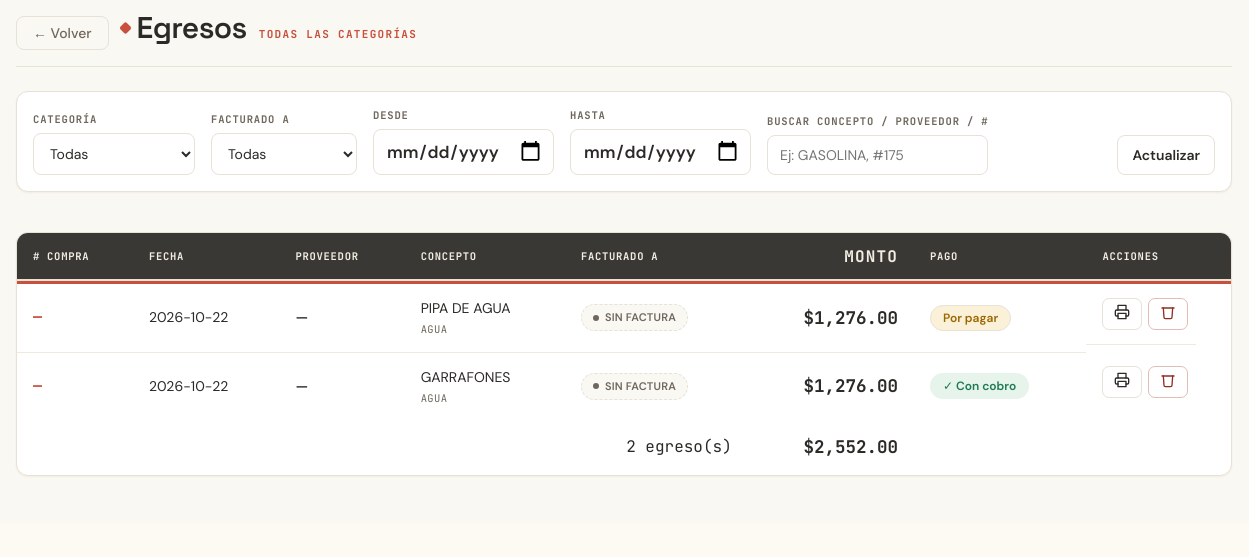
Test: Egresos: ¿con qué se pagó? › 🔴 pagado con cobro: dice «Con cobro» y si el servidor no deja quitarlo, el porqué se ve
The width and height of the screenshot is (1249, 557).
Click the button "✓ Con cobro" at (980, 386), box top-left (930, 373), bottom-right (1029, 399)
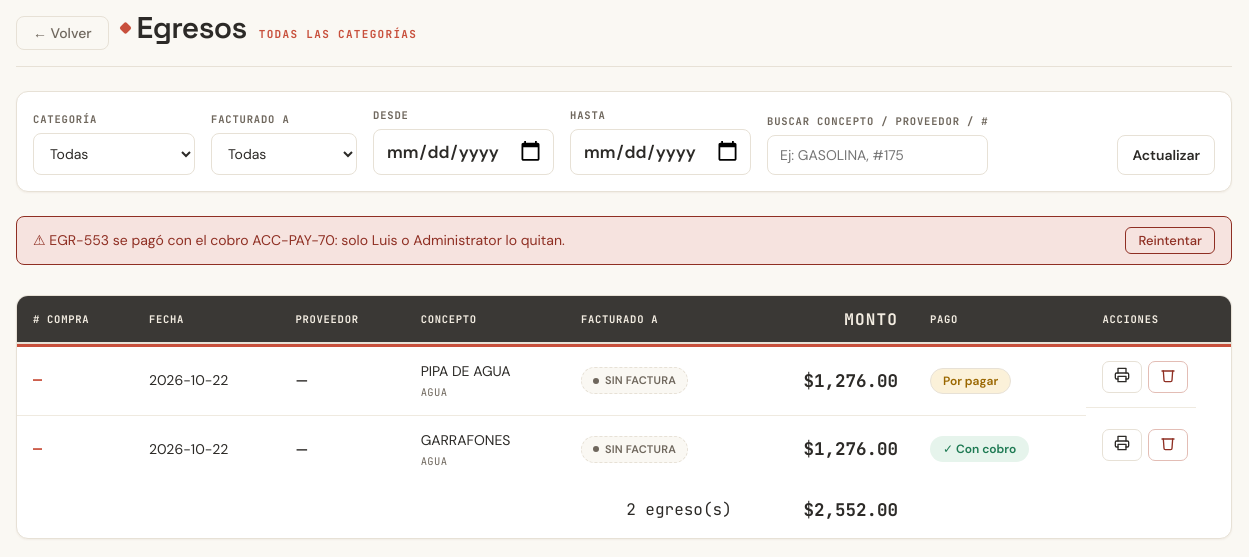
Expected: the button "✓ Con cobro" is shown, top-left (930, 436), bottom-right (1029, 462)
Now the text "solo Luis o Administrator lo quitan" is shown, box top-left (49, 231), bottom-right (565, 249)
